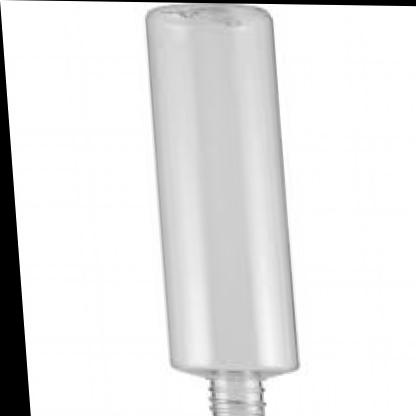trash: (147, 5, 297, 415)
